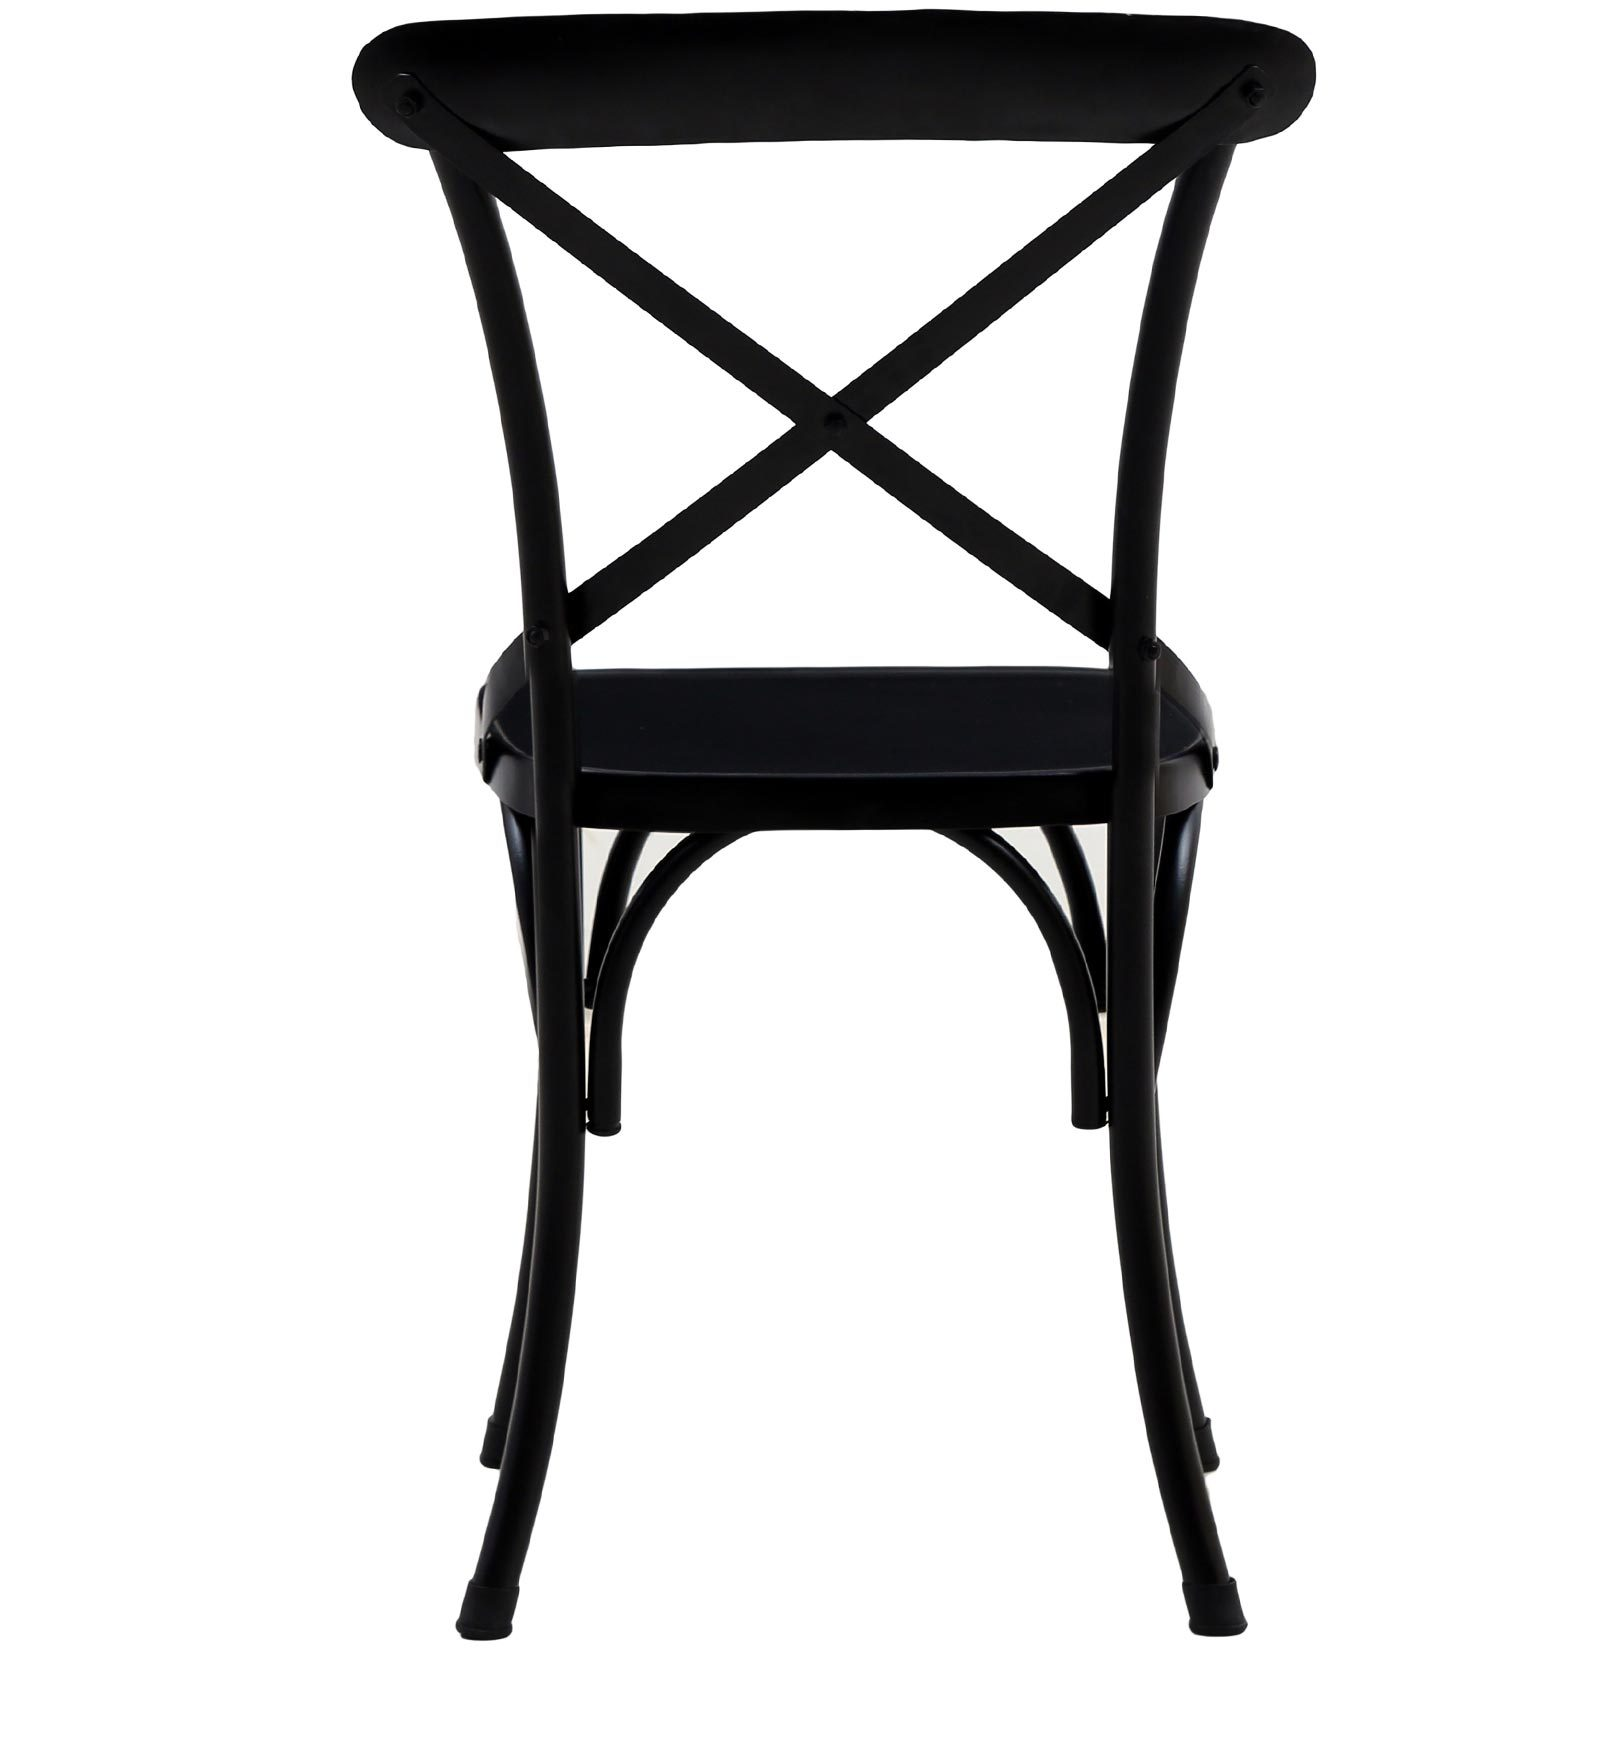Fabian Metal Chair in Black Color by Bohemiana: (310, 12, 1339, 1682)
